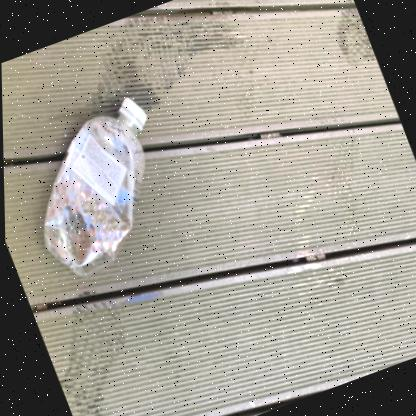Plastic: (41, 99, 142, 277)
